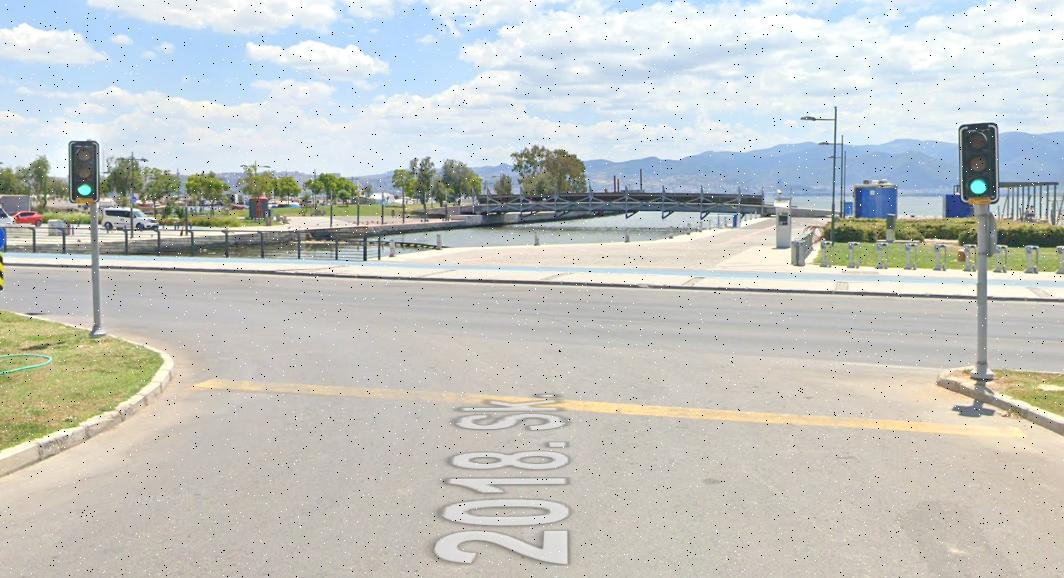greenlight: (957, 121, 999, 203), (69, 141, 98, 204)
